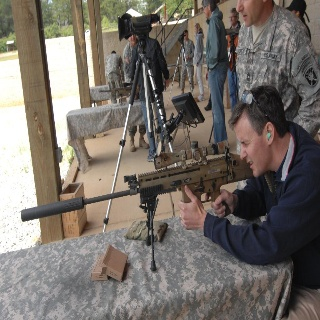rifle: (20, 140, 255, 272)
